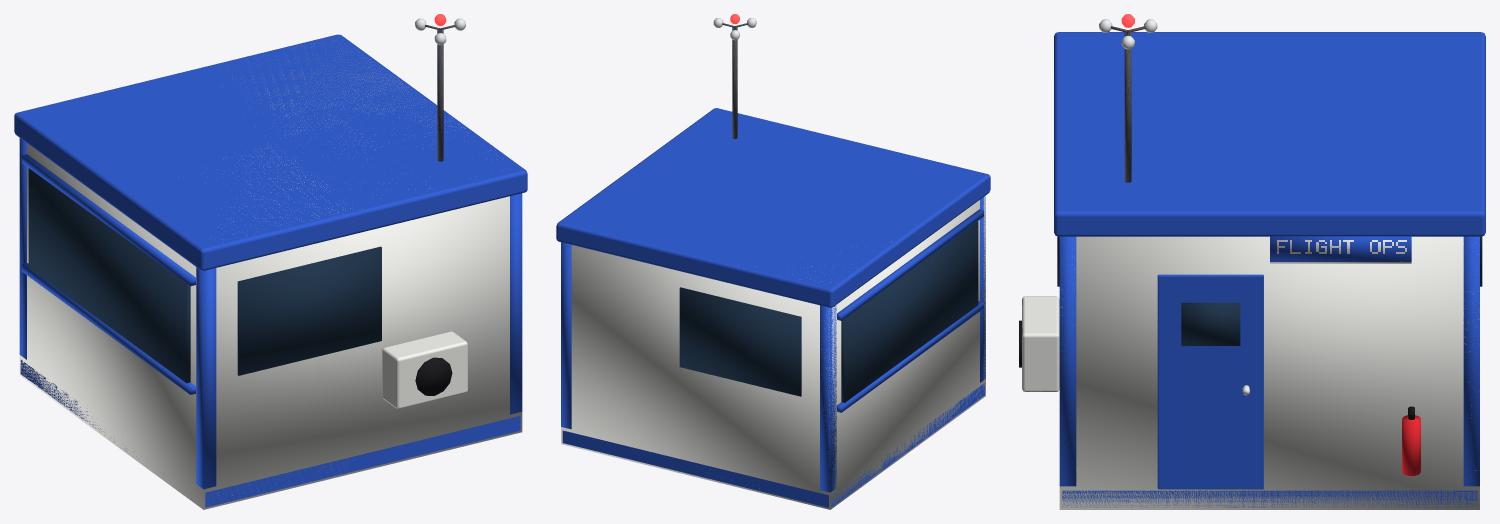
Rendered from p_flightops.glb.
The picture shows the model from 3 angles, left to right: view 1: azimuth 30°, elevation 25°; view 2: azimuth 150°, elevation 25°; view 3: azimuth 270°, elevation 25°; orthographic projection. The views are drawn at different scales.
Visible parts, largest first — view 1: fo_hp_blue, lod1_mesh.001, fo_hp_glass, fo_hp_white, fo_hp_black, fo_hp_steel; view 2: lod1_mesh.001, fo_hp_blue, fo_hp_glass, fo_hp_steel; view 3: fo_hp_blue, lod1_mesh.001, fo_hp_sign, fo_hp_white, fo_hp_glass, fo_hp_steel, fo_hp_red, fo_hp_chrome.
Boxes of the visible parts, x1,y1,x2,y2 form: fo_hp_blue: (14,34,527,507); lod1_mesh.001: (19,37,522,509); fo_hp_glass: (189,246,381,382); fo_hp_white: (382,331,467,408); fo_hp_black: (415,357,452,395); fo_hp_steel: (425,25,455,161); lod1_mesh.001: (561,195,985,509); fo_hp_blue: (556,108,990,507); fo_hp_glass: (679,287,842,402); fo_hp_steel: (722,23,748,138); fo_hp_blue: (1054,32,1485,507); lod1_mesh.001: (1059,236,1479,509); fo_hp_sign: (1270,236,1411,263); fo_hp_white: (1022,296,1059,391); fo_hp_glass: (1057,236,1482,345); fo_hp_steel: (1110,26,1145,182); fo_hp_red: (1402,415,1420,475); fo_hp_chrome: (1099,19,1249,395).
Size of the model in its own units: 3.8 by 4.36 by 3.96.
Materials: 9 (2 with a texture image).
